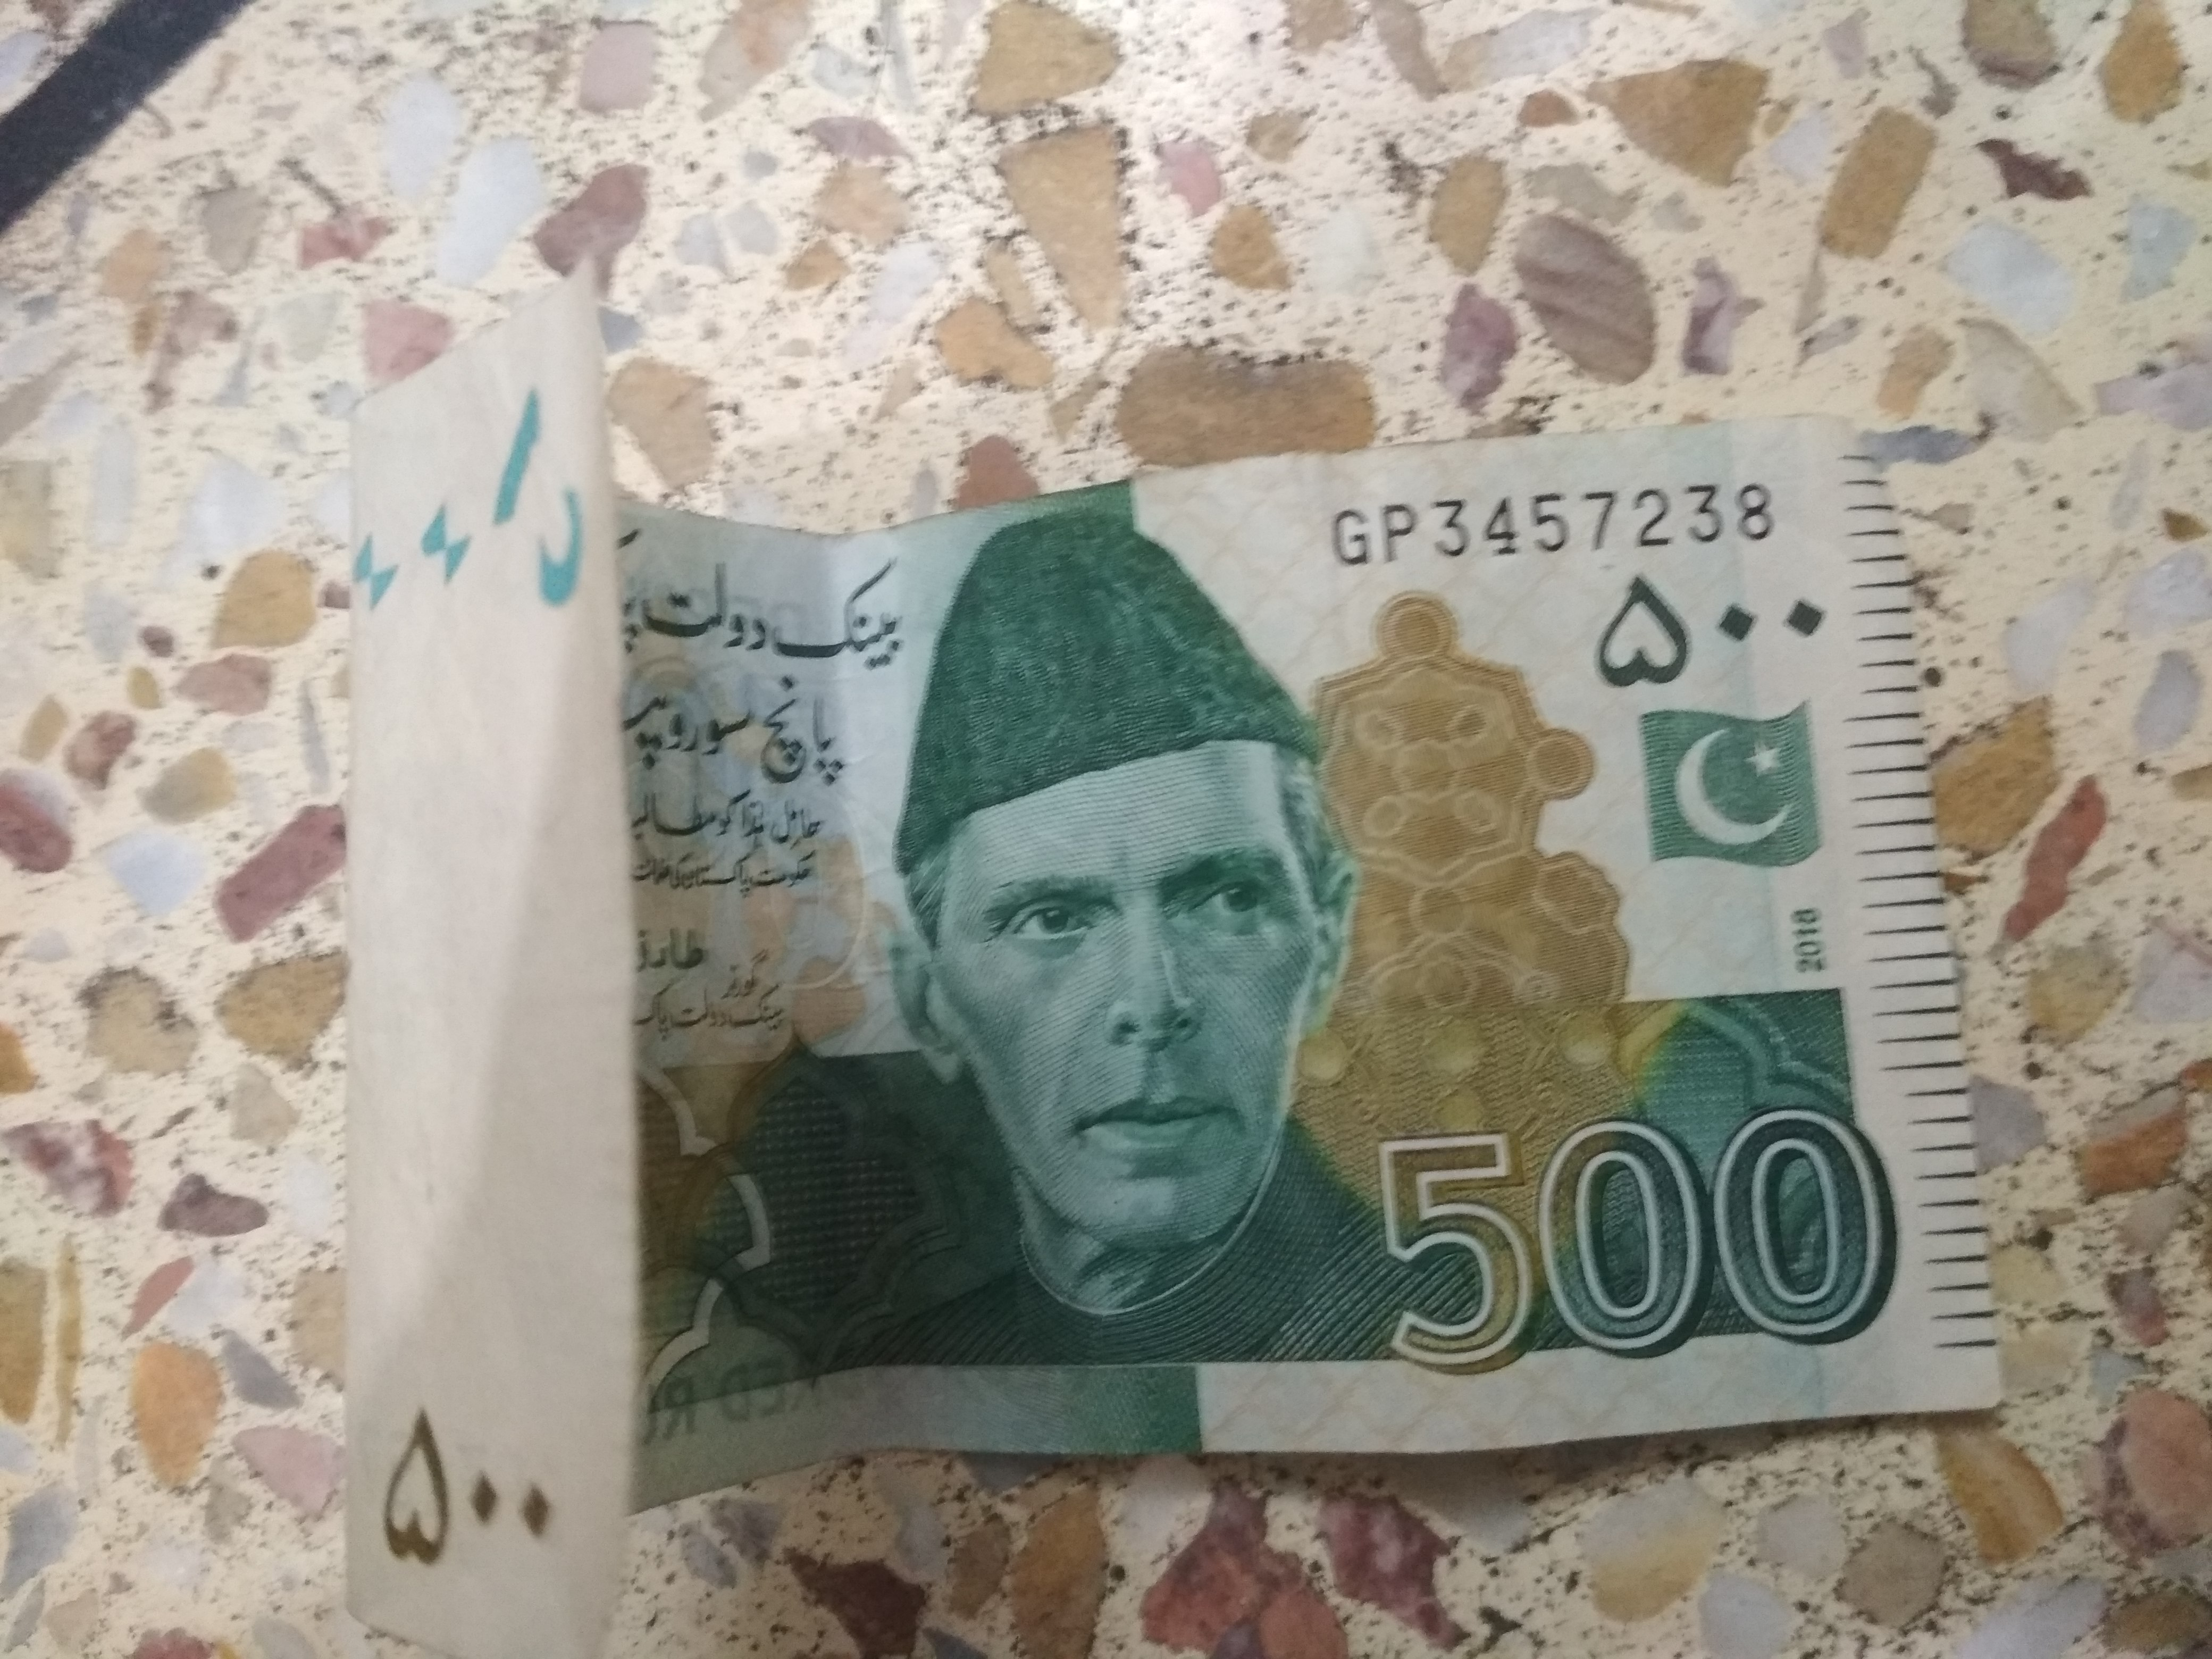500 rupee: (242, 211, 2087, 1621)
